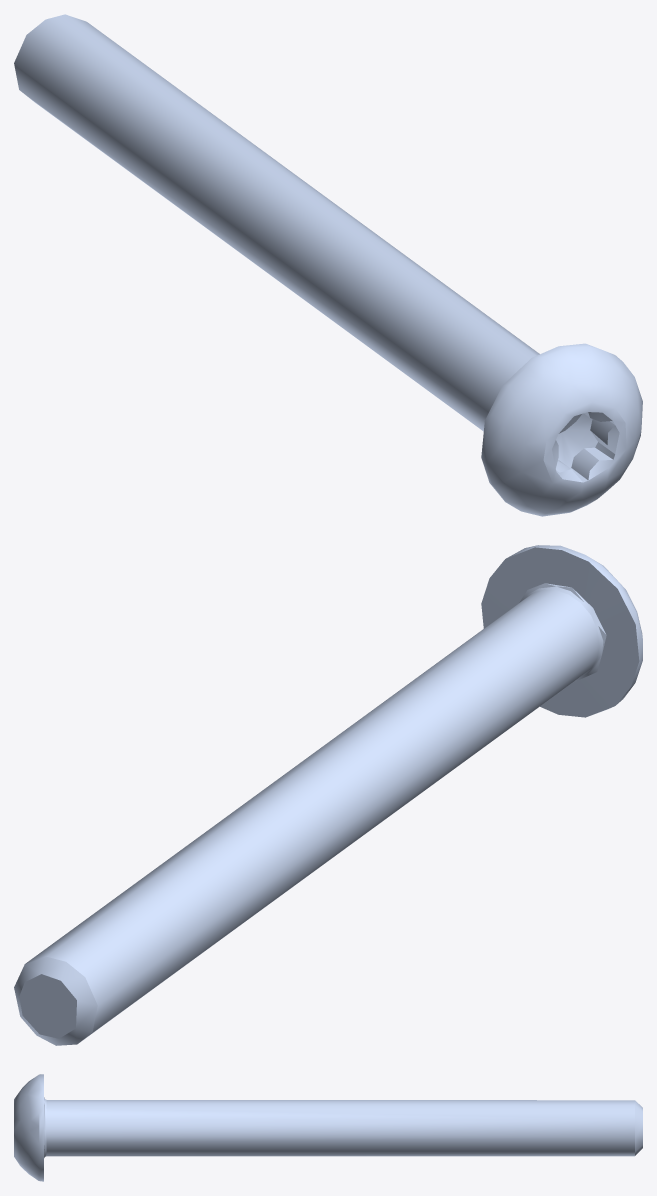
The model's file is _8-32_x_1_750_Star_Drive_Screw__276-4999_.glb.
The picture shows the model from 3 angles, top to bottom: view 1: azimuth 30°, elevation 25°; view 2: azimuth 150°, elevation 25°; view 3: azimuth 270°, elevation 25°; orthographic projection. The views are drawn at different scales.
Parts seen in each view (by area): view 1: #8-32 x 1.750 Star Drive Screw (276-4999); view 2: #8-32 x 1.750 Star Drive Screw (276-4999); view 3: #8-32 x 1.750 Star Drive Screw (276-4999).
Part boxes in pixels (<box>): #8-32 x 1.750 Star Drive Screw (276-4999): <box>14,14,642,516</box>; #8-32 x 1.750 Star Drive Screw (276-4999): <box>14,545,642,1045</box>; #8-32 x 1.750 Star Drive Screw (276-4999): <box>14,1074,642,1181</box>.
Size of the model in its own units: 0.3123 by 0.3131 by 1.84.
